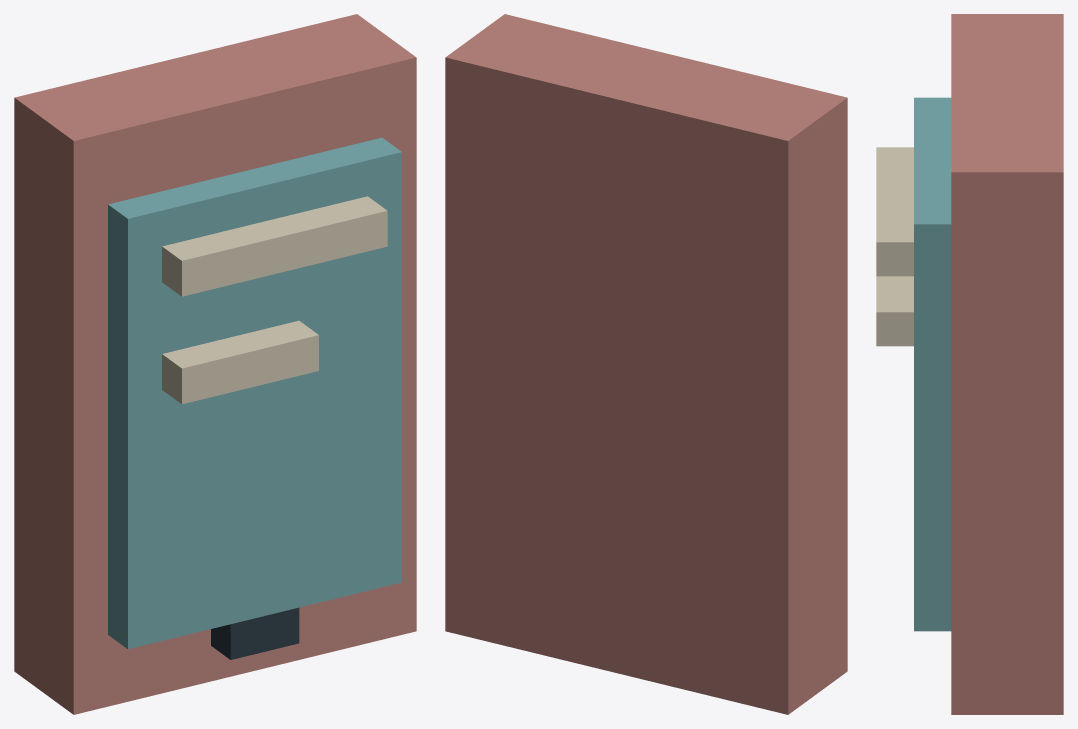
File: commerce-14.glb
The picture shows the model from 3 angles, left to right: view 1: azimuth 30°, elevation 25°; view 2: azimuth 150°, elevation 25°; view 3: azimuth 270°, elevation 25°; orthographic projection. The views are drawn at different scales.
Parts seen in each view (by area): view 1: Payment terminal; view 2: Payment terminal; view 3: Payment terminal.
Part boxes in pixels (x1,y1,x2,y2): Payment terminal: (14, 14, 416, 714); Payment terminal: (445, 14, 847, 714); Payment terminal: (876, 14, 1063, 714).
Size of the model in its own units: 0.8 by 1.28 by 0.4.
